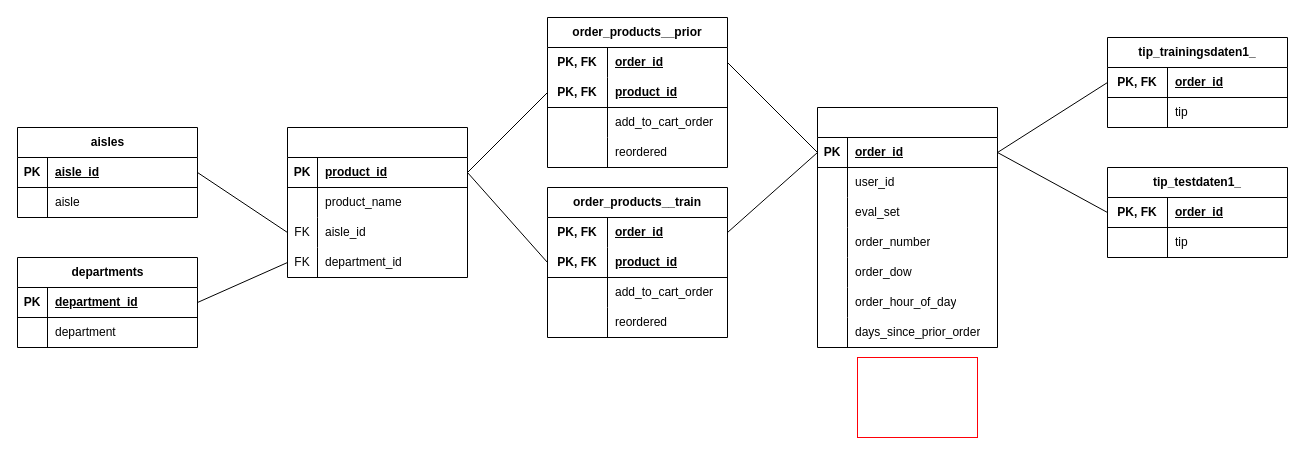
The diagram is 1305 pixels wide and 455 high, and some of its shapes have lost their labels. The box of each missing label's shape, as (x1, y1, x2, y2) in pixels:
Caution: eval_set == 'test' is not contained in order_products__*: (856, 356, 978, 438)
orders: (816, 106, 998, 348)
products: (286, 126, 468, 278)
